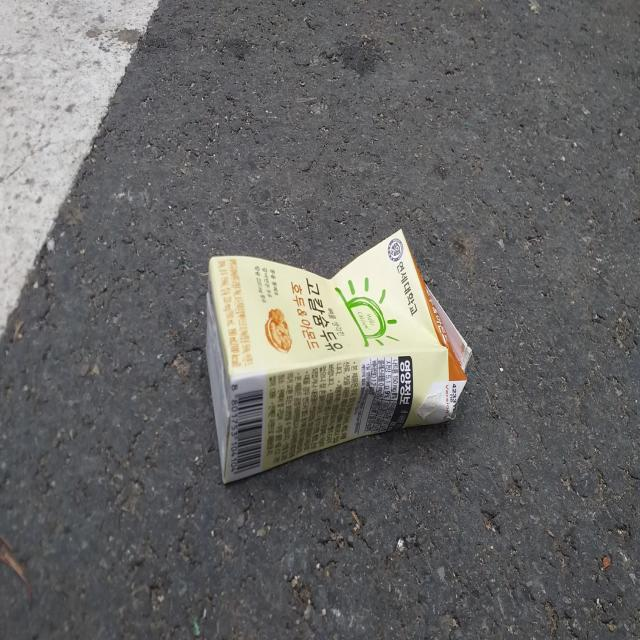paperpack: (206, 229, 472, 483)
